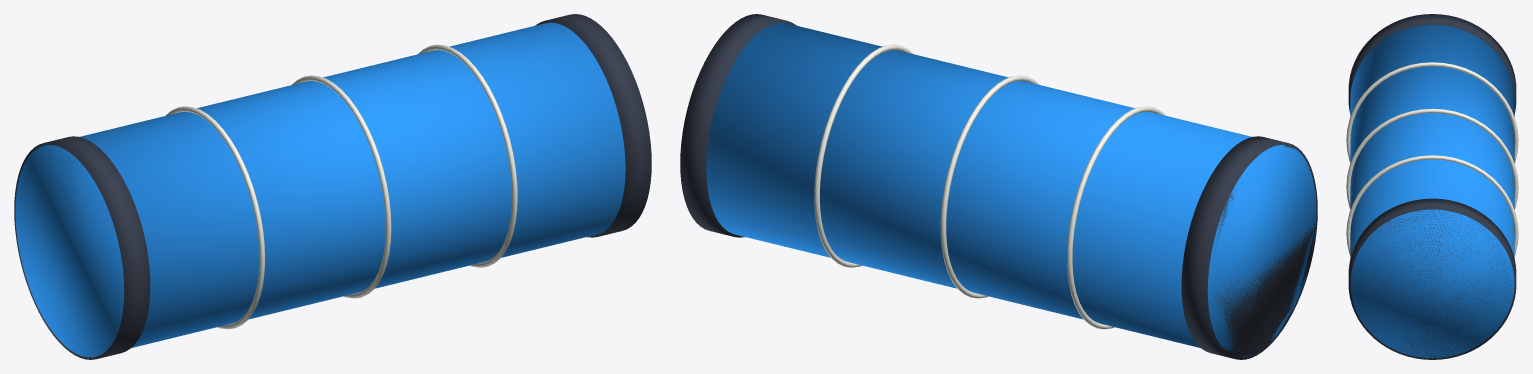
File: Schaumstoffrolle_Blau_3D.glb
3 views of the same model, side by side, from view 1: azimuth 30°, elevation 25°; view 2: azimuth 150°, elevation 25°; view 3: azimuth 270°, elevation 25° (orthographic). The views are drawn at different scales.
Parts seen in each view (by area): view 1: blue individual cylindrical small foam roller, blue individual cylindrical small foam roller left dark cap , blue individual cylindrical small foam roller right dark cap, blue individual cylindrical small foam roller raised soft ri (×3); view 2: blue individual cylindrical small foam roller, blue individual cylindrical small foam roller left dark cap , blue individual cylindrical small foam roller right dark cap, blue individual cylindrical small foam roller raised soft ri (×3); view 3: blue individual cylindrical small foam roller, blue individual cylindrical small foam roller right dark cap, blue individual cylindrical small foam roller raised soft ri (×3), blue individual cylindrical small foam roller left dark cap .
Part boxes in pixels (bbox=[...]): blue individual cylindrical small foam roller: bbox=[15, 22, 625, 357]; blue individual cylindrical small foam roller left dark cap : bbox=[14, 136, 150, 359]; blue individual cylindrical small foam roller right dark cap: bbox=[535, 14, 651, 237]; blue individual cylindrical small foam roller raised soft ri (×3): bbox=[165, 44, 517, 329]; blue individual cylindrical small foam roller: bbox=[706, 22, 1316, 357]; blue individual cylindrical small foam roller left dark cap : bbox=[1181, 136, 1317, 359]; blue individual cylindrical small foam roller right dark cap: bbox=[680, 14, 796, 237]; blue individual cylindrical small foam roller raised soft ri (×3): bbox=[814, 44, 1166, 329]; blue individual cylindrical small foam roller: bbox=[1350, 25, 1514, 358]; blue individual cylindrical small foam roller right dark cap: bbox=[1348, 198, 1516, 359]; blue individual cylindrical small foam roller raised soft ri (×3): bbox=[1346, 62, 1518, 255]; blue individual cylindrical small foam roller left dark cap : bbox=[1348, 14, 1516, 113].
Bounding box in the file's own units: 0.95 × 0.357 × 0.357.
